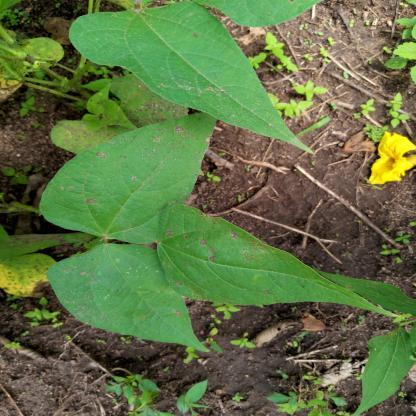Beans_Angular_LeafSpot: (158, 214, 400, 314), (38, 118, 205, 238), (60, 242, 212, 357)
